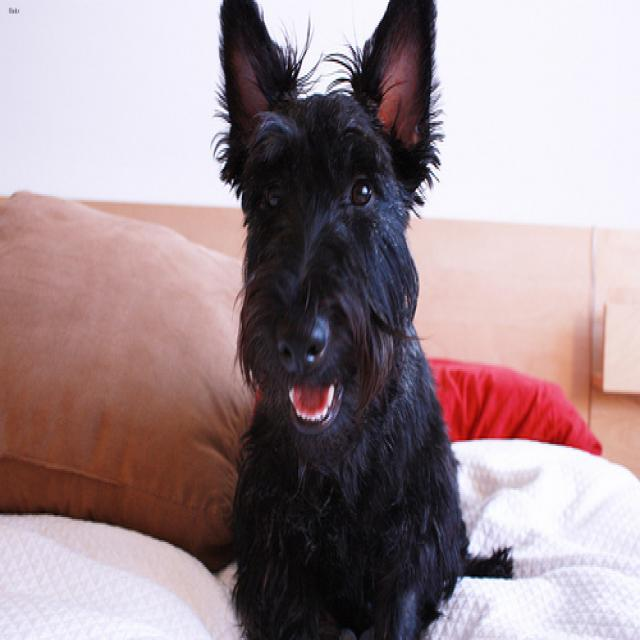dog-scottish_terrier: (210, 2, 520, 636)
